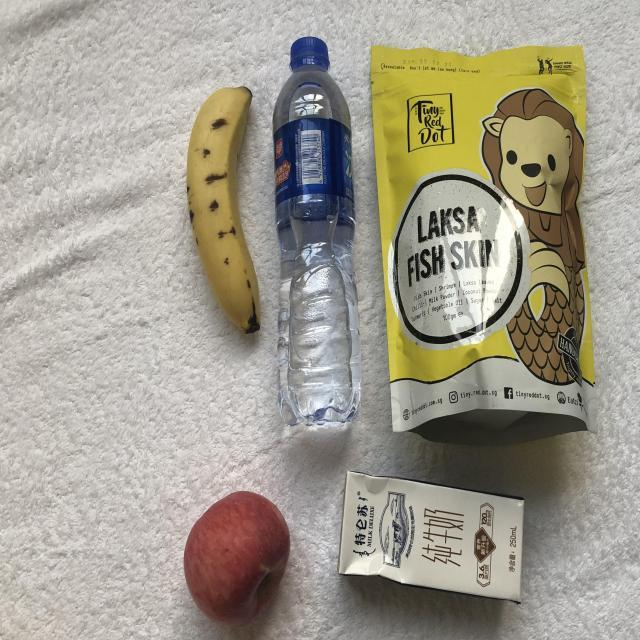Apple: (171, 474, 296, 640)
Banana: (164, 66, 276, 348)
